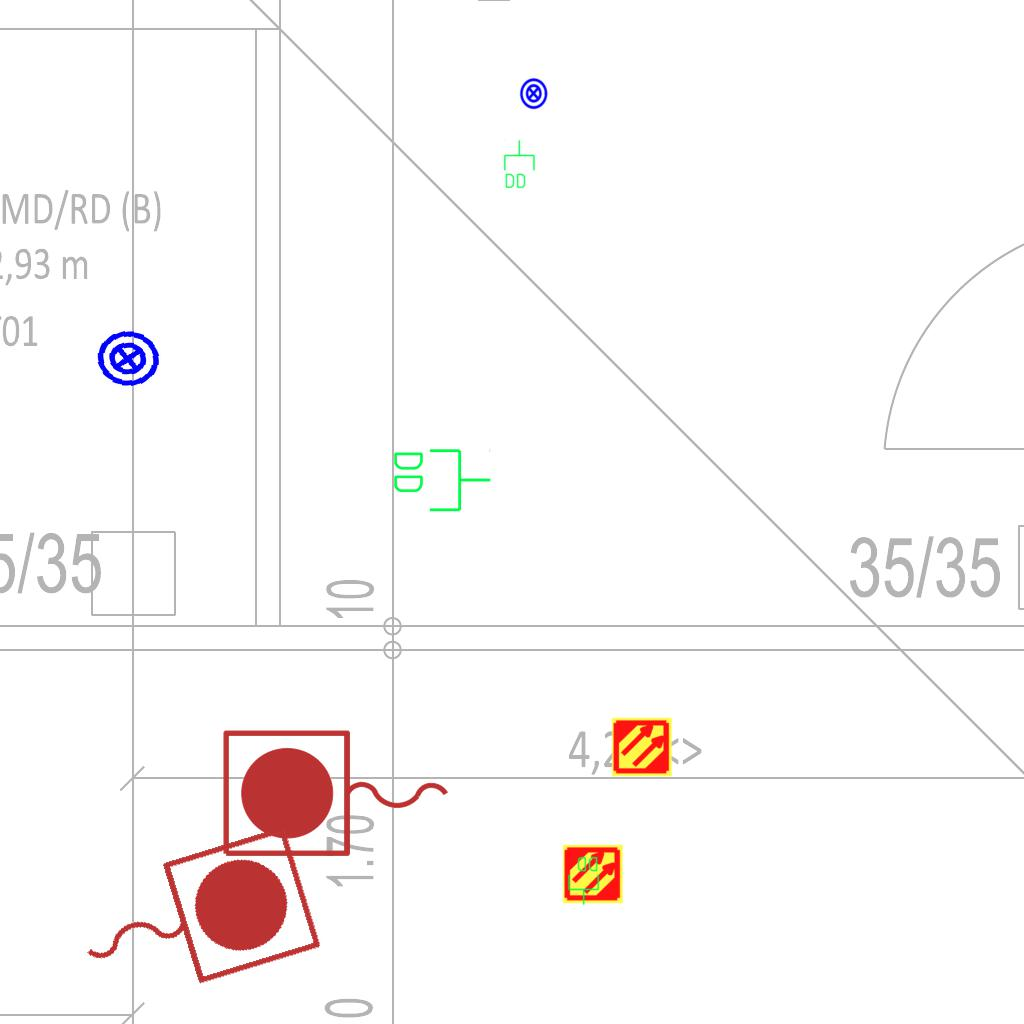ASR_Ansaugrauchmelder: (611, 716, 673, 778), (562, 843, 624, 905)
Datenanschluss_zweifach: (390, 445, 493, 514), (502, 139, 536, 190), (567, 855, 601, 906)
Taster_beleuchtet: (91, 322, 165, 396), (517, 77, 550, 110)
Zugtaster: (55, 813, 331, 1023), (215, 723, 459, 867)
